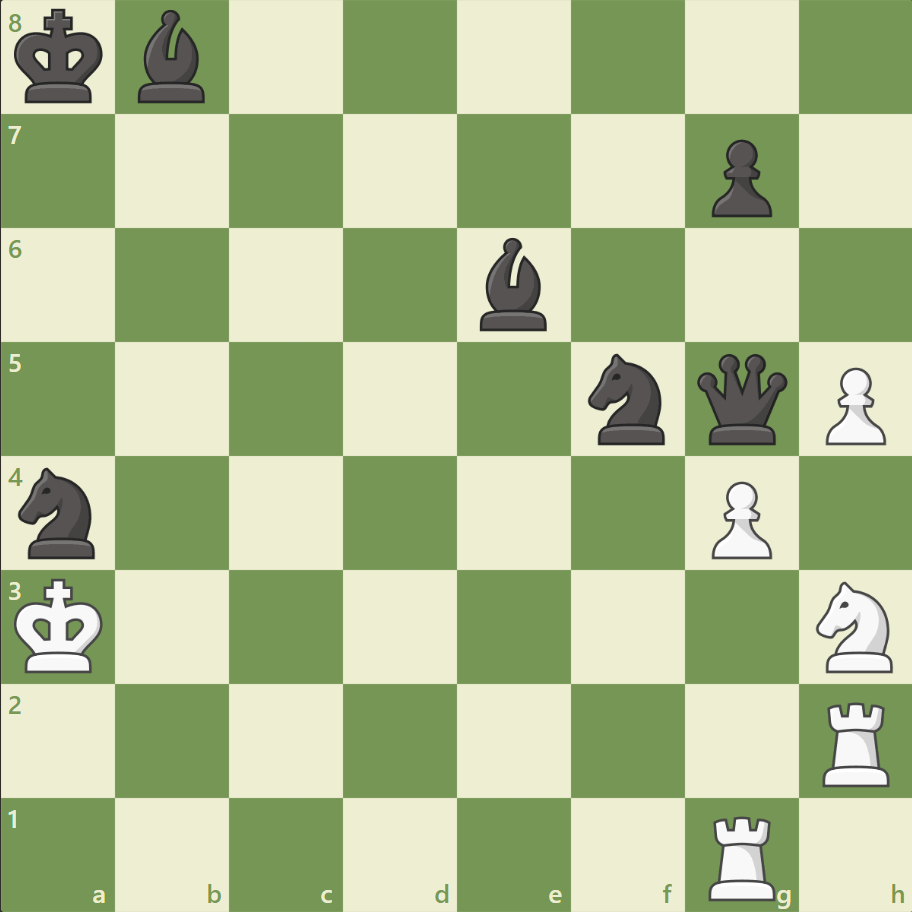K: (11, 571, 111, 679)
N: (806, 575, 903, 677)
P: (701, 473, 776, 564), (815, 359, 889, 450)
R: (700, 806, 783, 904), (814, 693, 897, 790)
b: (131, 6, 215, 109), (471, 233, 555, 336)
k: (11, 4, 111, 112)
n: (11, 461, 108, 564), (579, 348, 676, 450)
p: (701, 132, 776, 223)
q: (691, 349, 790, 449)
